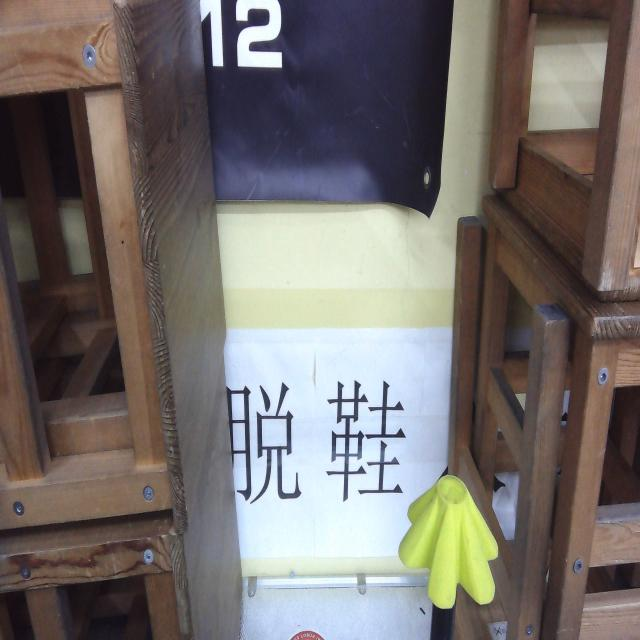Yellow-Stake-Head: (398, 475, 497, 612)
